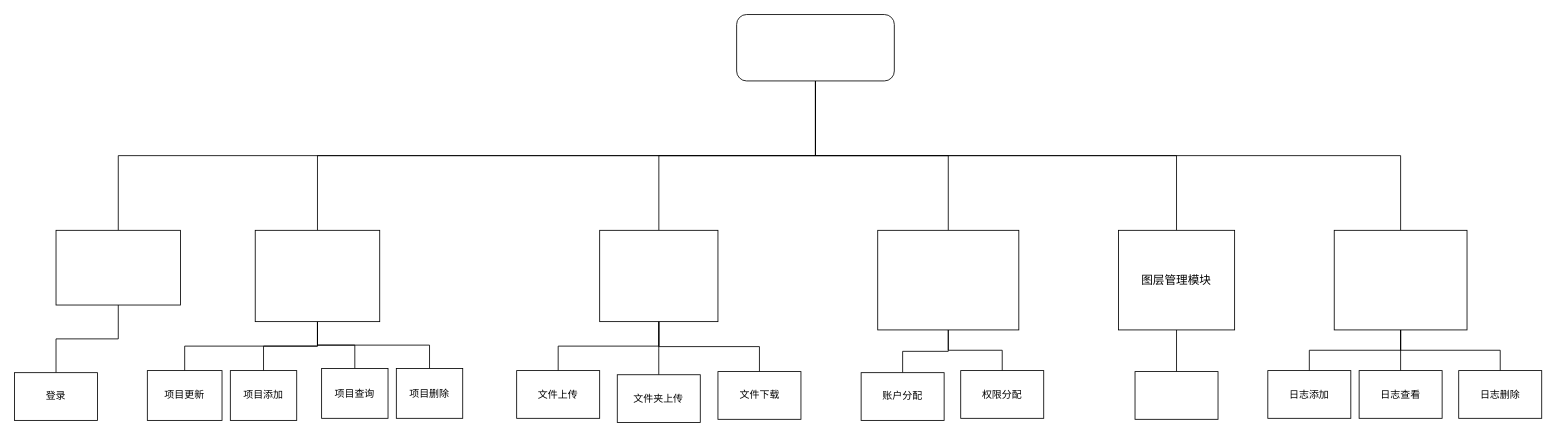
This 1556x437 diagram has some shape labels left out. The centre of each missing label's shape, as x and y in pixels:
"图层显示" belongs at pixel 1176 395.
"地震勘测项目数据管理系统" belongs at pixel 815 47.
"文件管理模块" belongs at pixel 658 275.
"日志管理模块" belongs at pixel 1400 279.
"权限管理模块" belongs at pixel 948 279.
"登录模块" belongs at pixel 118 267.
"项目管理模块" belongs at pixel 317 275.
